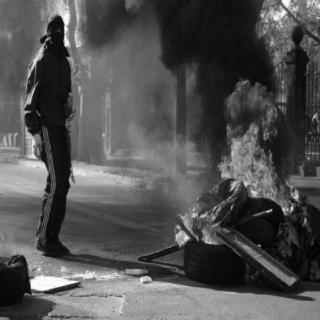Fire: (223, 71, 301, 215), (173, 200, 221, 251)
